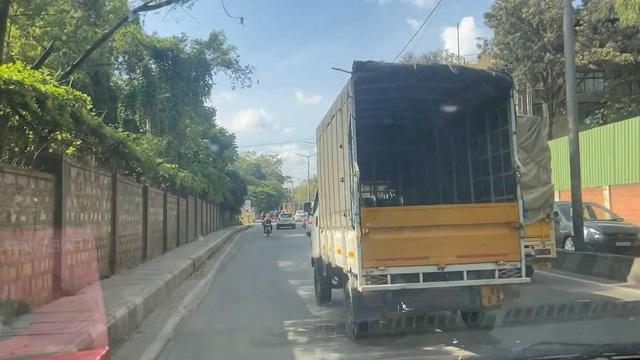HMV: (301, 43, 547, 348)
